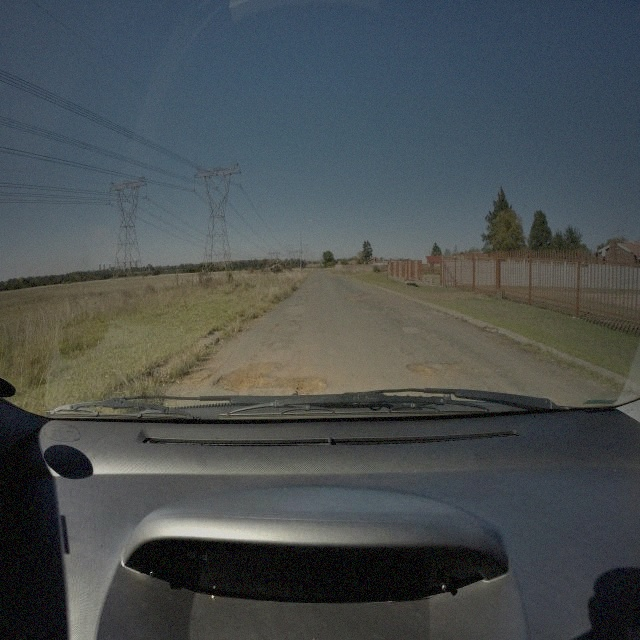pothole: (217, 359, 284, 393), (291, 374, 326, 394), (405, 362, 438, 378), (442, 362, 471, 374), (270, 323, 280, 336), (345, 296, 362, 302)
